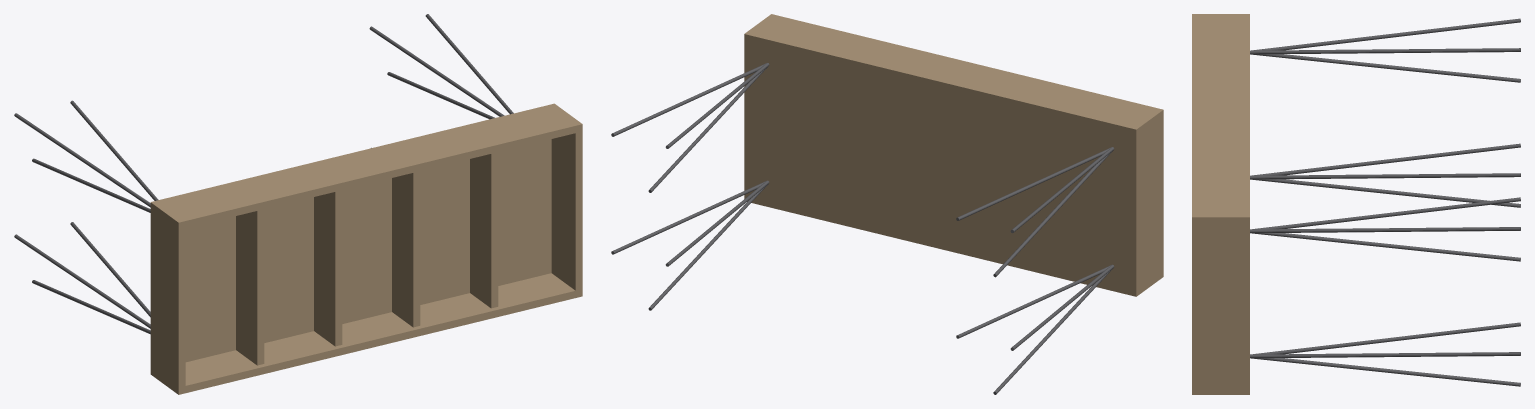
Rendered from vinyl_record_storage.glb.
3 renders of one model, left to right at view 1: azimuth 30°, elevation 25°; view 2: azimuth 150°, elevation 25°; view 3: azimuth 270°, elevation 25°, orthographic. The views are drawn at different scales.
Parts seen in each view (by area): view 1: bottom, back, front, side_left, side_right, divider_2, divider_3, divider_1, divider_4, leg_back_left, leg_front_left, leg_back_right; view 2: bottom, back, side_left, leg_back_left, leg_front_left, leg_front_right, leg_back_right, side_right; view 3: side_right, back, leg_back_right, leg_front_right, leg_back_left, leg_front_left, bottom.
Part boxes in pixels (x1=…): bottom: x1=158, y1=105, x2=551, y2=362; back: x1=162, y1=108, x2=575, y2=228; front: x1=185, y1=273, x2=575, y2=392; side_left: x1=150, y1=200, x2=185, y2=394; side_right: x1=548, y1=103, x2=582, y2=297; divider_2: x1=314, y1=190, x2=342, y2=346; divider_3: x1=392, y1=171, x2=420, y2=327; divider_1: x1=236, y1=209, x2=264, y2=365; divider_4: x1=470, y1=152, x2=498, y2=308; leg_back_left: x1=14, y1=100, x2=158, y2=212; leg_front_left: x1=14, y1=222, x2=150, y2=334; leg_back_right: x1=369, y1=14, x2=513, y2=119; bottom: x1=751, y1=33, x2=1132, y2=294; back: x1=755, y1=15, x2=1156, y2=124; side_left: x1=1129, y1=108, x2=1163, y2=296; leg_back_left: x1=956, y1=147, x2=1114, y2=277; leg_front_left: x1=956, y1=264, x2=1114, y2=394; leg_front_right: x1=611, y1=180, x2=769, y2=310; leg_back_right: x1=611, y1=63, x2=769, y2=192; side_right: x1=744, y1=14, x2=777, y2=201; side_right: x1=1192, y1=213, x2=1249, y2=394; back: x1=1192, y1=17, x2=1241, y2=213; leg_back_right: x1=1250, y1=197, x2=1520, y2=261; leg_front_right: x1=1250, y1=322, x2=1520, y2=386; leg_back_left: x1=1250, y1=18, x2=1520, y2=82; leg_front_left: x1=1250, y1=143, x2=1520, y2=207; bottom: x1=1241, y1=17, x2=1249, y2=213.
Size of the model in its own units: 51.1 by 21.28 by 34.03.
